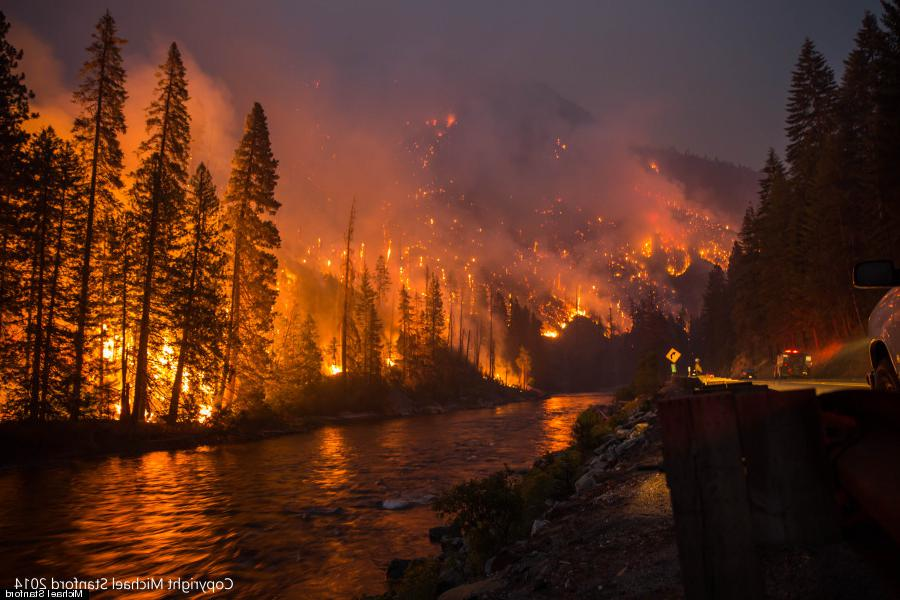fire: (64, 112, 708, 403)
